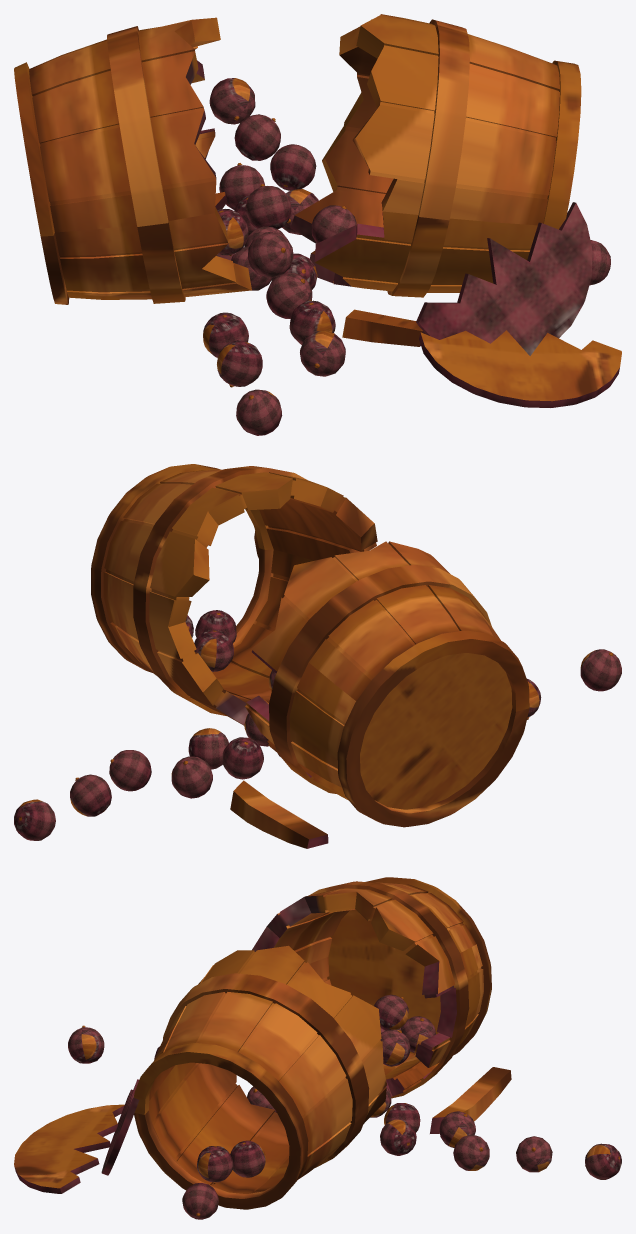
File: barrel of broken fruit_10.fbx
The picture shows the model from 3 angles, top to bottom: view 1: azimuth 30°, elevation 25°; view 2: azimuth 150°, elevation 25°; view 3: azimuth 270°, elevation 25°; orthographic projection. The views are drawn at different scales.
Visible parts, largest first — view 1: Circle.046, Circle.047, Plane.1851, Plane.1858, Plane.1863, Plane.1852, Plane.1848, Plane.1843, Plane.1867, Plane.1872, Plane.1844, Plane.1849 (+8 smaller); view 2: Circle.046, Plane.1863, Plane.1852, Plane.1851, Plane.1845, Plane.1857, Plane.1848, Plane.1861, Plane.1866, Plane.1854; view 3: Circle.046, Circle.047, Plane.1852, Plane.1854, Plane.1866, Plane.1848, Plane.1855, Plane.1863, Plane.1851, Plane.1861, Plane.1865, Plane.1857 (+3 smaller).
Boxes of the visible parts, x1,y1,x2,y2 form: Circle.046: [14, 14, 581, 346]; Circle.047: [416, 202, 621, 407]; Plane.1851: [234, 114, 280, 160]; Plane.1858: [217, 340, 262, 387]; Plane.1863: [270, 144, 316, 190]; Plane.1852: [236, 389, 282, 435]; Plane.1848: [209, 78, 255, 124]; Plane.1843: [300, 330, 345, 376]; Plane.1867: [247, 232, 293, 277]; Plane.1872: [245, 184, 291, 229]; Plane.1844: [266, 272, 312, 318]; Plane.1849: [289, 300, 335, 344]; Circle.046: [91, 464, 529, 848]; Plane.1863: [109, 750, 151, 791]; Plane.1852: [580, 649, 621, 691]; Plane.1851: [70, 774, 111, 816]; Plane.1845: [222, 737, 263, 779]; Plane.1857: [171, 756, 212, 798]; Plane.1848: [14, 799, 55, 840]; Plane.1861: [194, 630, 233, 672]; Plane.1866: [188, 728, 228, 769]; Plane.1854: [195, 610, 236, 643]; Circle.046: [134, 877, 511, 1209]; Circle.047: [14, 1079, 139, 1193]; Plane.1852: [68, 1025, 104, 1063]; Plane.1854: [197, 1146, 233, 1183]; Plane.1866: [380, 1119, 416, 1155]; Plane.1848: [585, 1143, 621, 1179]; Plane.1855: [182, 1183, 218, 1219]; Plane.1863: [453, 1134, 489, 1170]; Plane.1851: [516, 1136, 552, 1172]; Plane.1861: [230, 1140, 265, 1177]; Plane.1865: [374, 994, 408, 1030]; Plane.1857: [439, 1111, 475, 1147].
Bounding box in the file's own units: 73.73 × 37.01 × 97.23.
